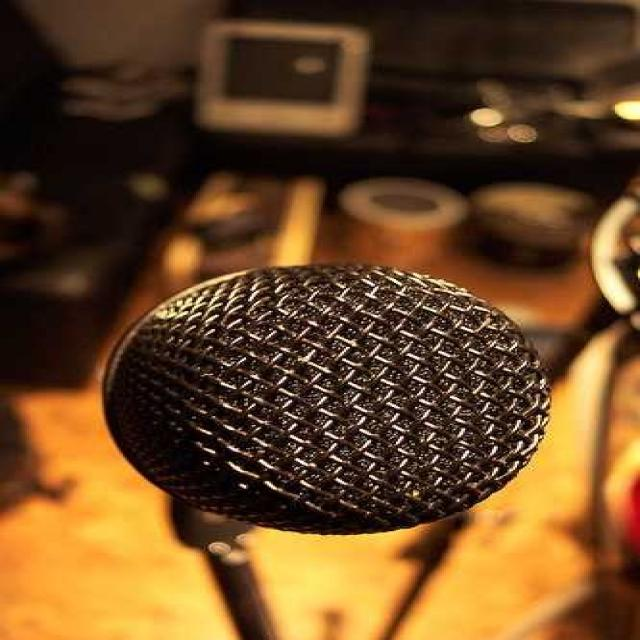microphone: (100, 264, 556, 637)
